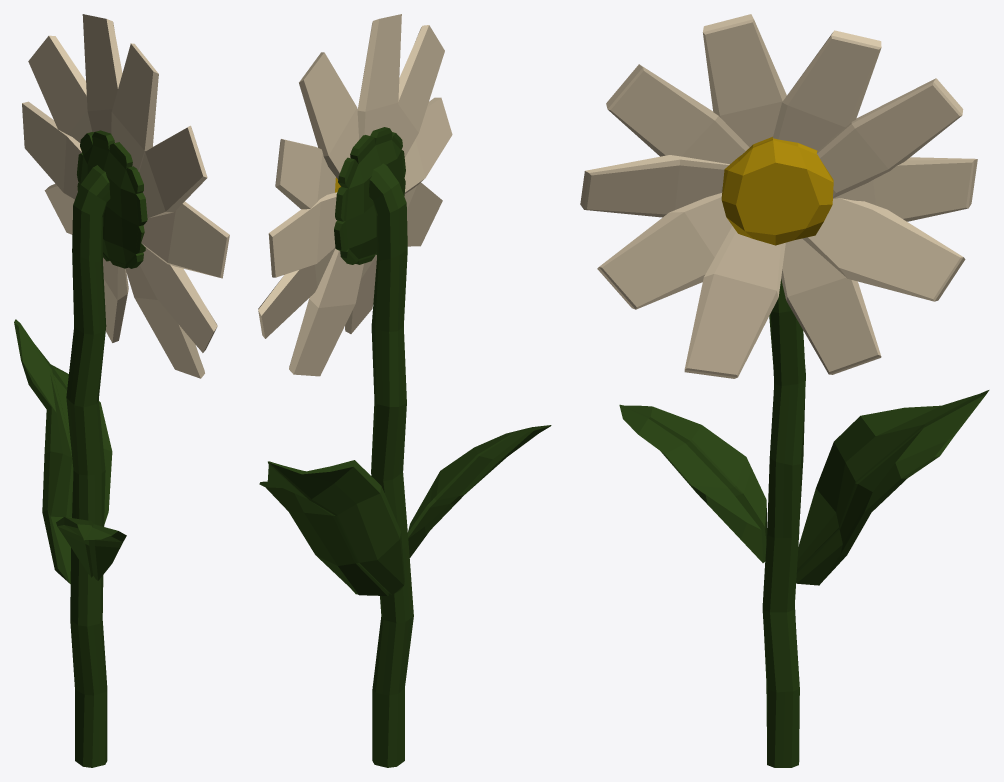
The model's file is Combined_Daisy.fbx.
The picture shows the model from 3 angles, left to right: view 1: azimuth 30°, elevation 25°; view 2: azimuth 150°, elevation 25°; view 3: azimuth 270°, elevation 25°; orthographic projection. The views are drawn at different scales.
Visible parts, largest first — view 1: Stem; view 2: Stem; view 3: Stem.
Part boxes in pixels (x1,y1,x2,y2): Stem: (14,14,229,767); Stem: (258,14,551,767); Stem: (580,14,989,767).
Bounding box in the file's own units: 337 × 1523 × 743.
